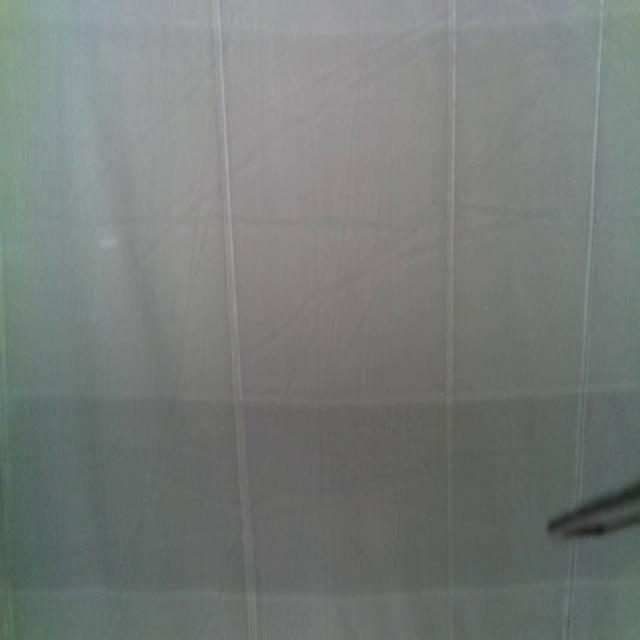color bleeding: (0, 382, 552, 604)
crease: (212, 0, 258, 639), (574, 0, 607, 498), (447, 0, 458, 640), (565, 546, 577, 640)
